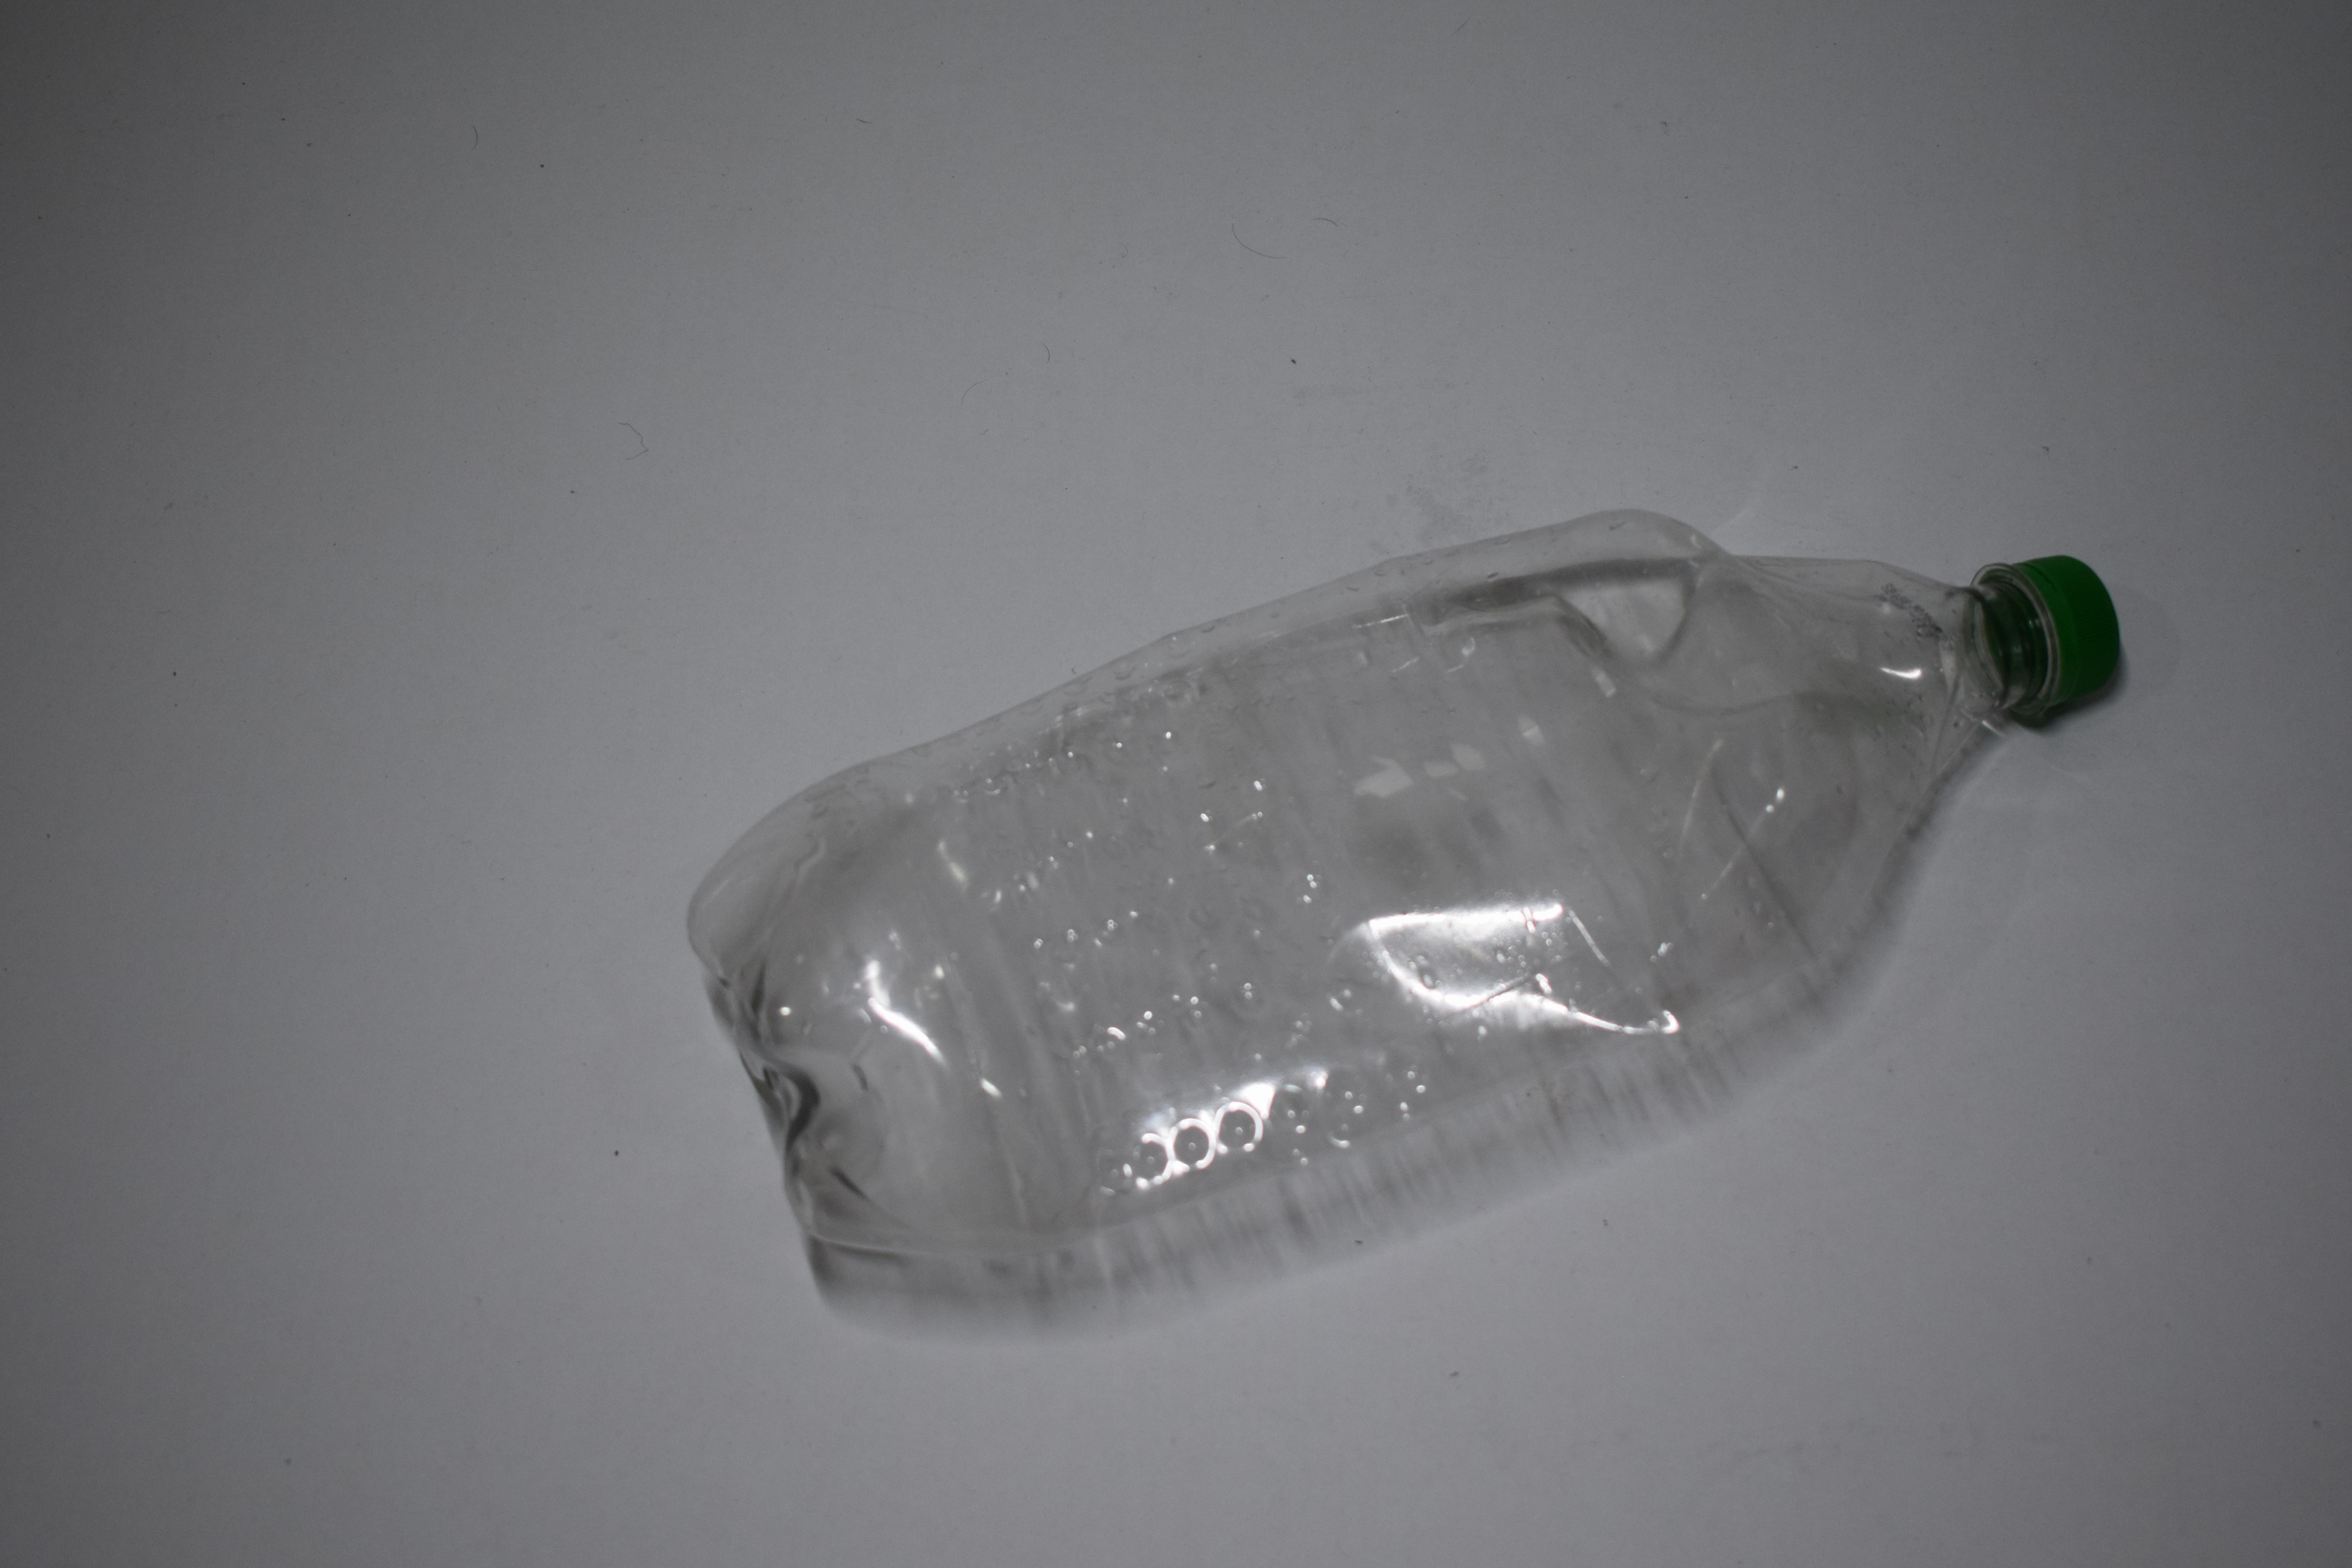bottle: (0, 110, 945, 142)
